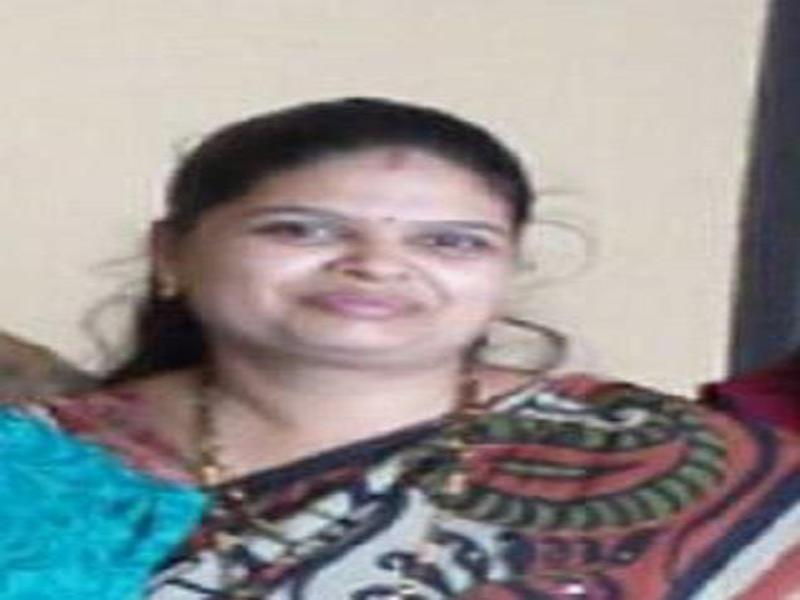without_mask: (189, 161, 510, 372)
